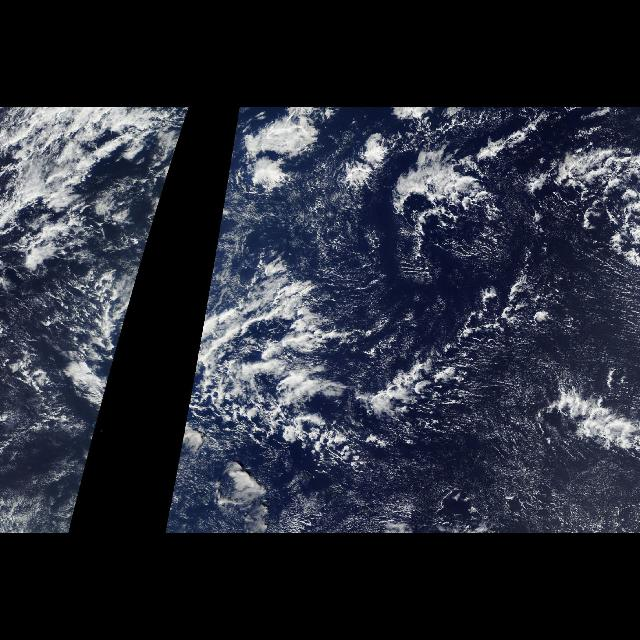Fish: (176, 313, 566, 473)
Gravel: (8, 226, 116, 346)
Sugar: (466, 215, 638, 530), (210, 144, 404, 310)
